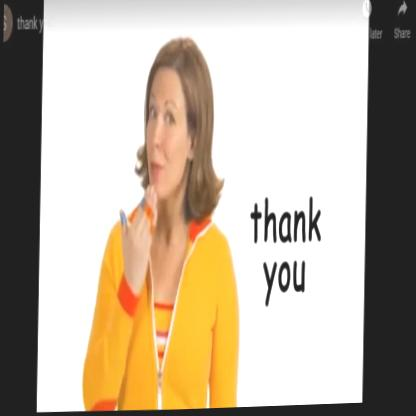ThankYou: (120, 23, 216, 302)
